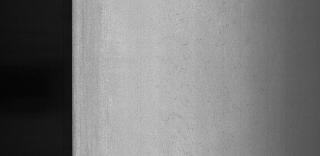silk spot: (156, 2, 244, 142)
